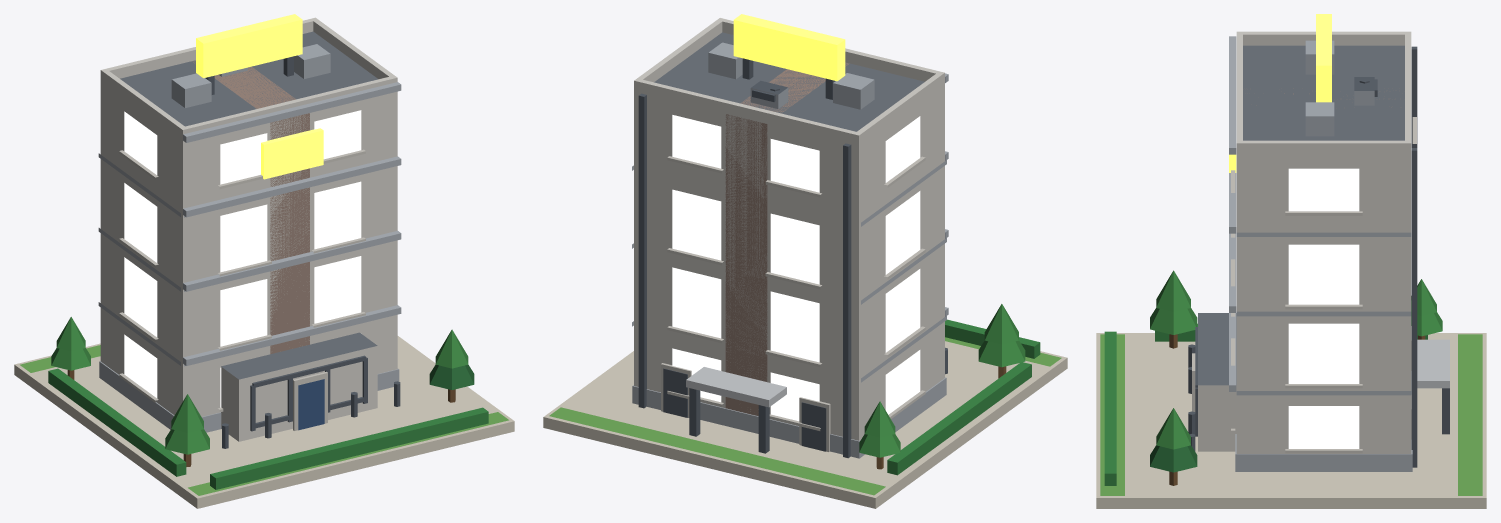
3 views of the same model, side by side, from view 1: azimuth 30°, elevation 25°; view 2: azimuth 150°, elevation 25°; view 3: azimuth 270°, elevation 25° (orthographic). The views are drawn at different scales.
Visible parts, largest first — view 1: b18; view 2: b18; view 3: b18.
Boxes of the visible parts, box(x1,y1,x2,y2) form: b18: box(14, 14, 514, 508); b18: box(543, 14, 1067, 508); b18: box(1096, 14, 1486, 508).
Bounding box in the file's own units: 0.96 × 1.05 × 0.96.
